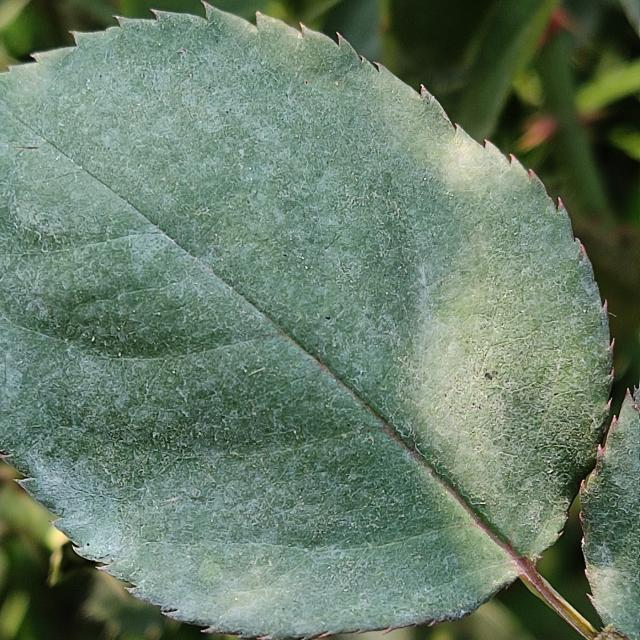Rose: (0, 1, 618, 638)
